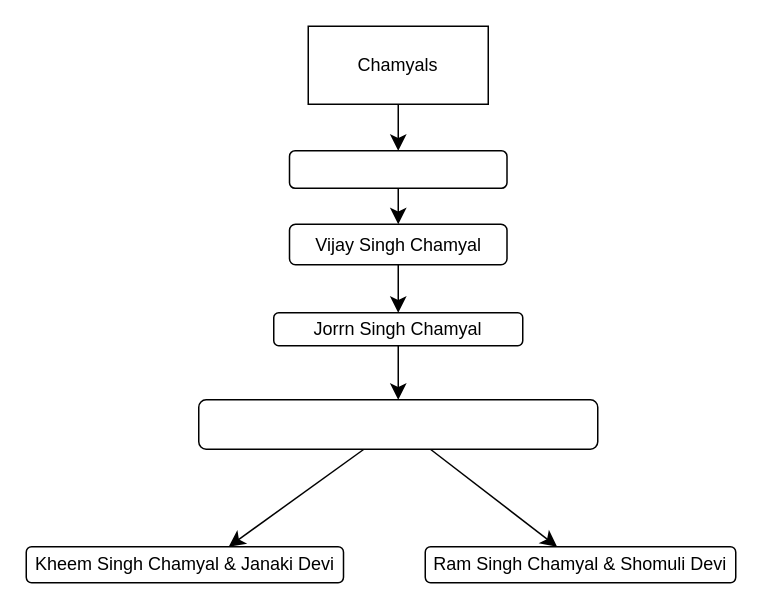
Image size: 762x609. Some labels were removed from this diagram. The centre of each missing label's shape, as x and y in pixels:
Madhav Singh Chamyal: pixel 397 168
Swargi Dhan Singh Chamyal & Devaki Devi: pixel 397 423
